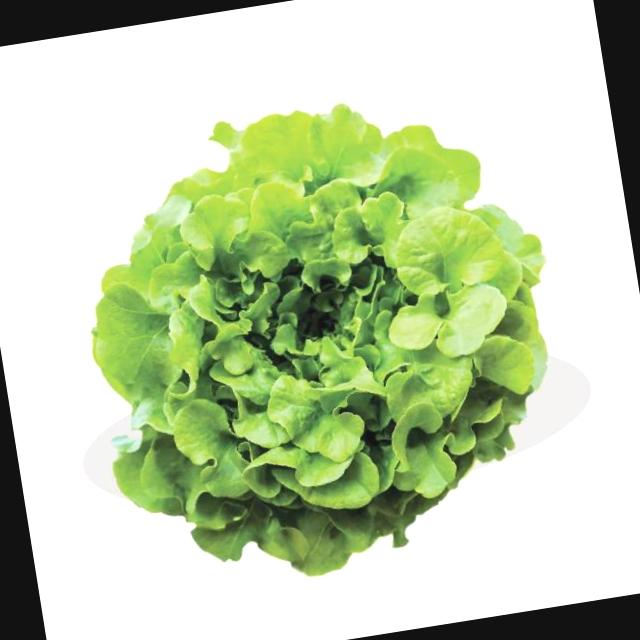Lettuce: (7, 39, 640, 633)
